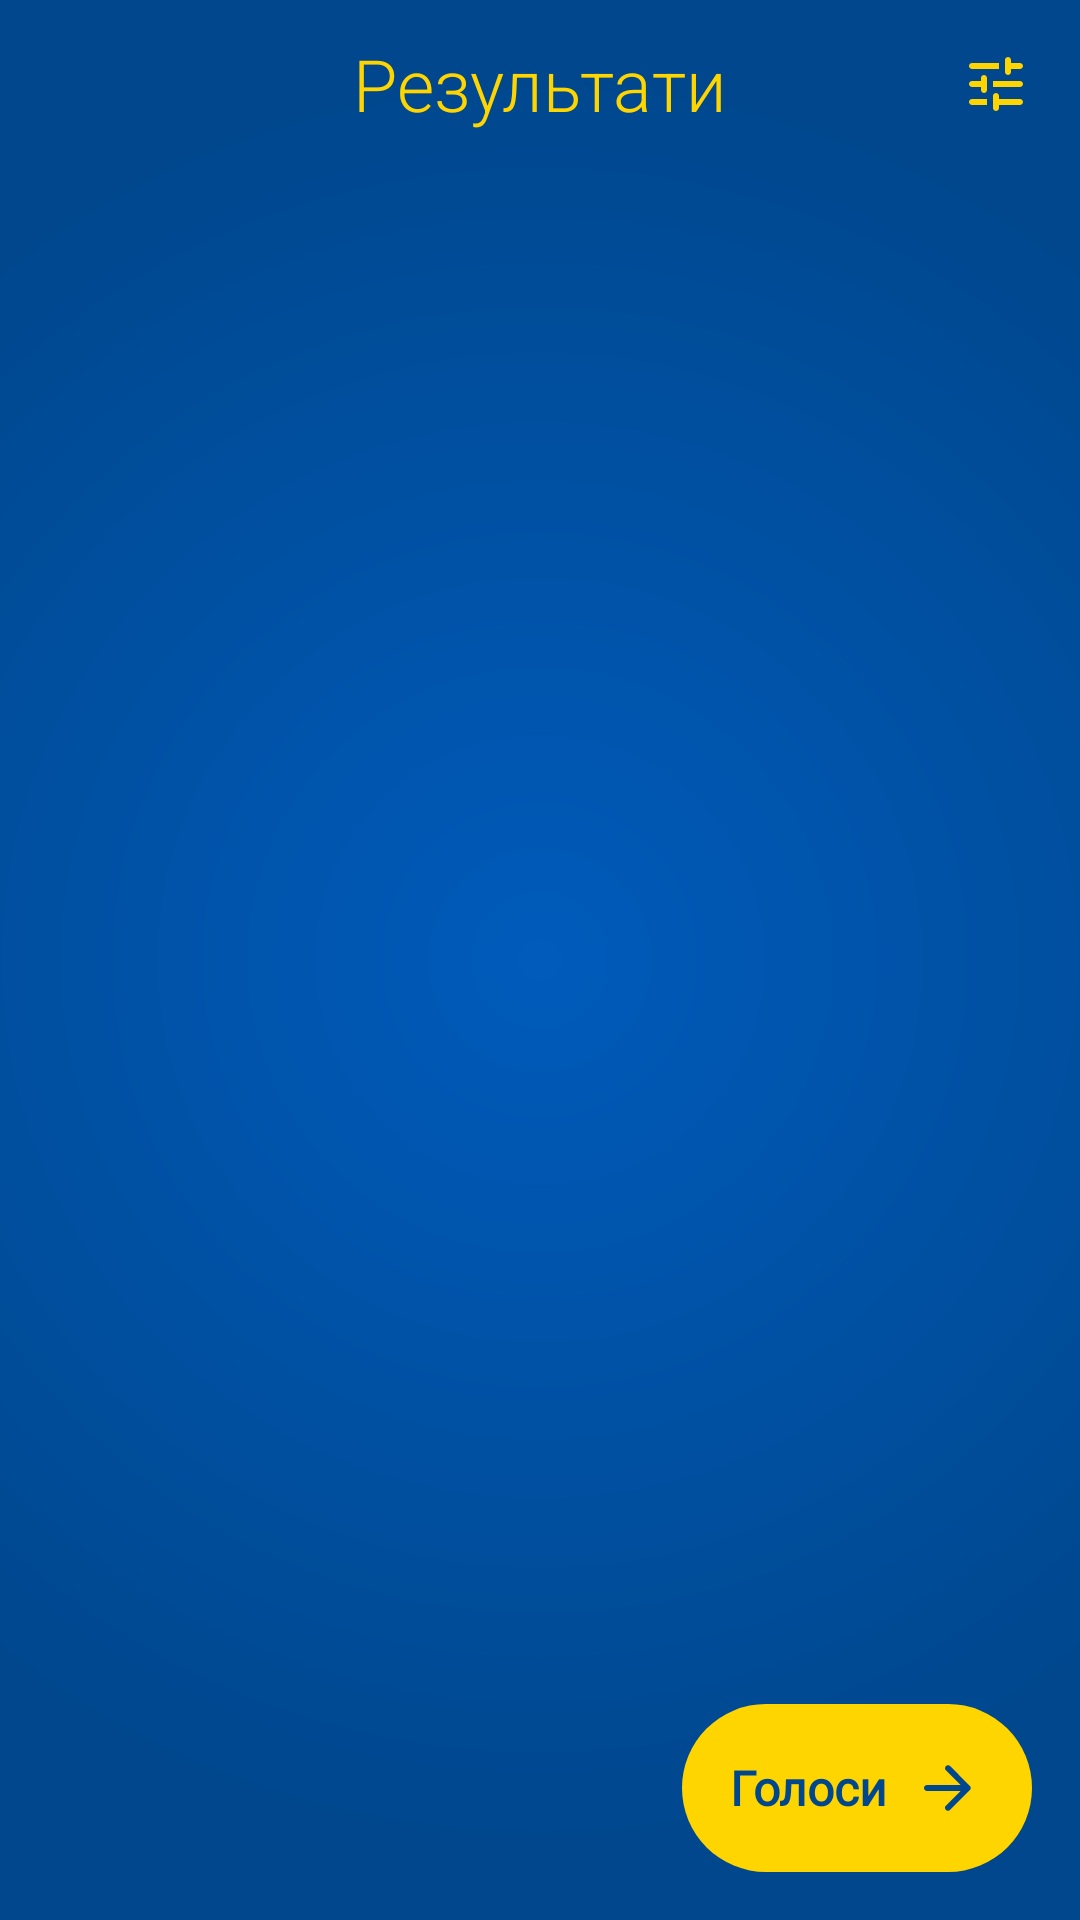

Icons on this 1080 × 1920 Android screen, each with the point to tap as (x,y):
tune: (996,84)
